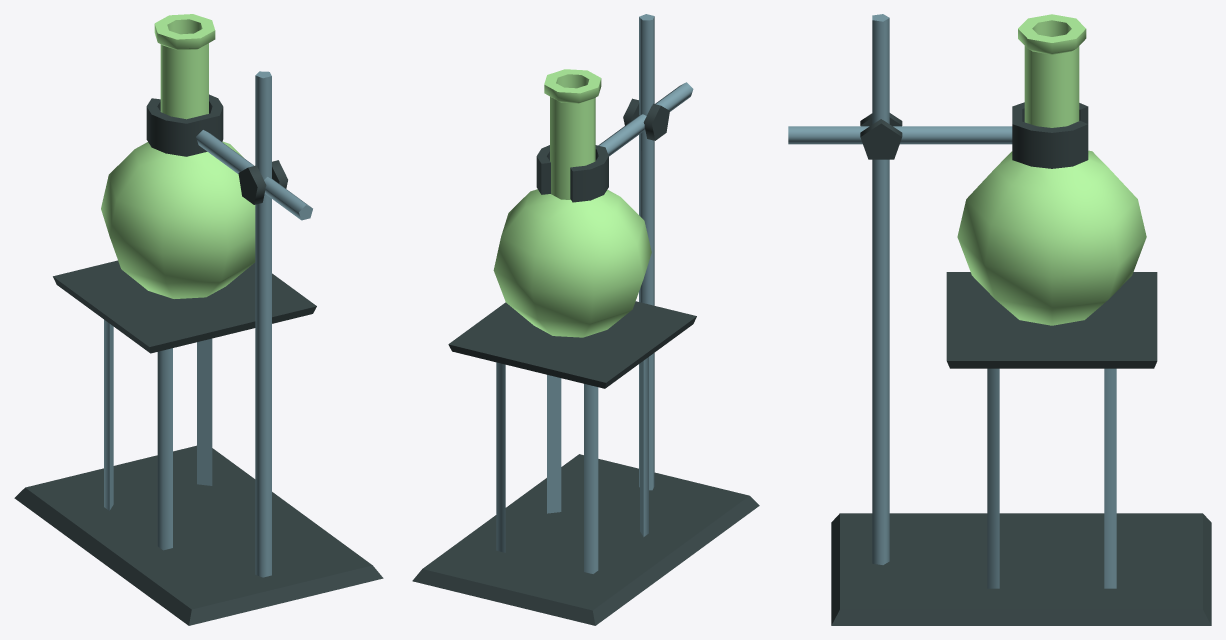
The model's file is laba_props_1.fbx.
3 renders of one model, left to right at view 1: azimuth 30°, elevation 25°; view 2: azimuth 150°, elevation 25°; view 3: azimuth 270°, elevation 25°, orthographic. The views are drawn at different scales.
Parts seen in each view (by area): view 1: laba_props_1, laba_props_1.002; view 2: laba_props_1, laba_props_1.002; view 3: laba_props_1, laba_props_1.002.
Part boxes in pixels (x1,y1,x2,y2): laba_props_1: (14,71,383,625); laba_props_1.002: (101,14,255,298); laba_props_1: (412,14,759,625); laba_props_1.002: (493,69,651,337); laba_props_1: (788,14,1211,625); laba_props_1.002: (957,14,1146,325).
Bounding box in the file's own units: 9.67 × 24.26 × 16.71.
